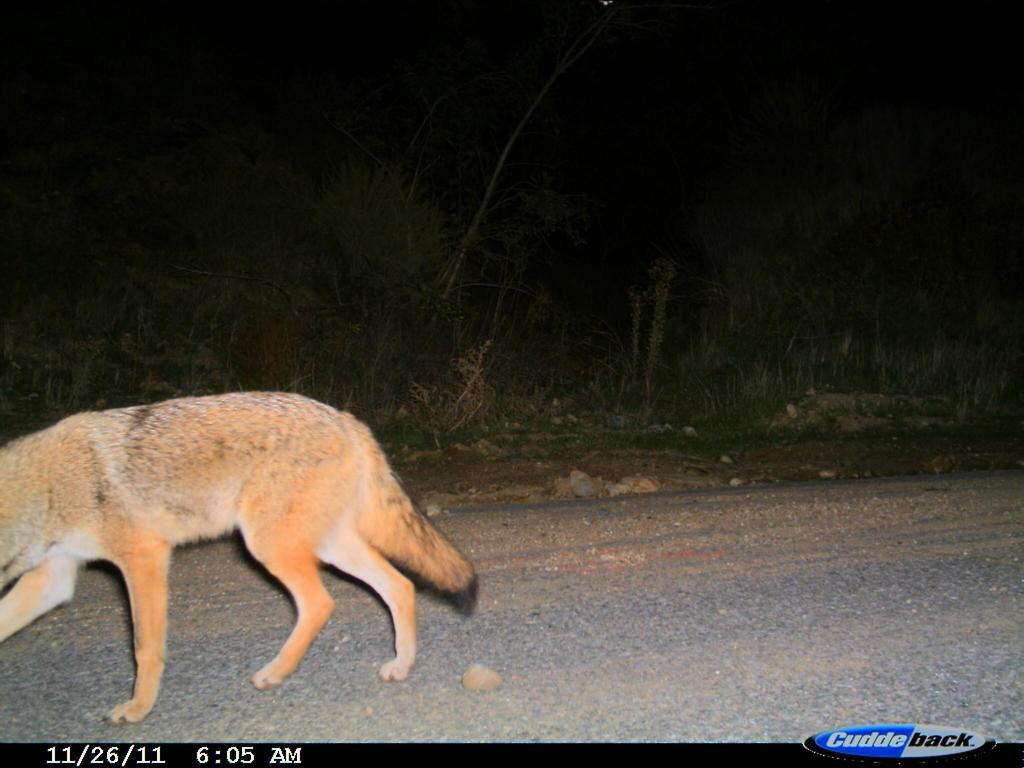coyote: (1, 381, 491, 736)
